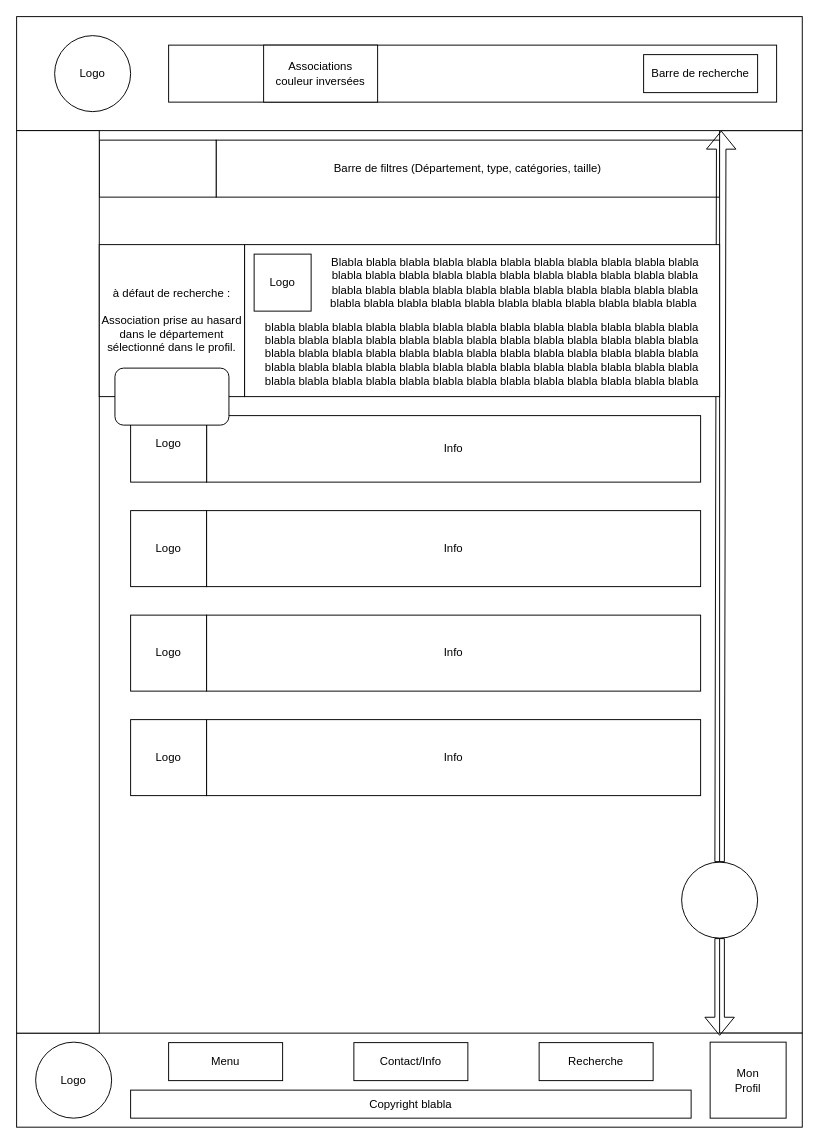
This 819x1144 diagram has some shape labels left out. The box of each missing label's shape, as (x1, y1, x2, y2) in pixels:
Barre des menus: (168, 44, 777, 102)
Remonter en haut de page: (681, 861, 758, 938)
Sinon, résultats de recherche sous forme de liste: (114, 367, 229, 425)
Titre de menu: (98, 139, 216, 197)
